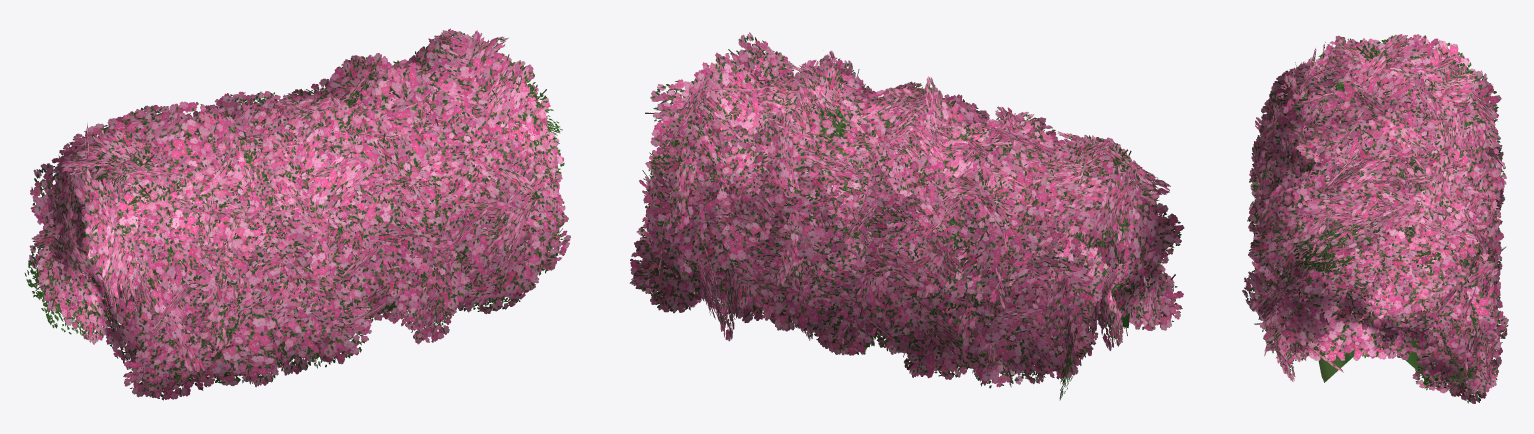
The model's file is Hedge_Azalea.fbx.
3 views of the same model, side by side, from view 1: azimuth 30°, elevation 25°; view 2: azimuth 150°, elevation 25°; view 3: azimuth 270°, elevation 25° (orthographic). The views are drawn at different scales.
Parts seen in each view (by area): view 1: Hedge_Azalea; view 2: Hedge_Azalea; view 3: Hedge_Azalea.
Part boxes in pixels (x1,y1,x2,y2): Hedge_Azalea: [24, 28, 570, 400]; Hedge_Azalea: [629, 32, 1184, 400]; Hedge_Azalea: [1242, 34, 1508, 403].
Bounding box in the file's own units: 2.37 × 1.29 × 1.3.
1 material, 1 textured.
